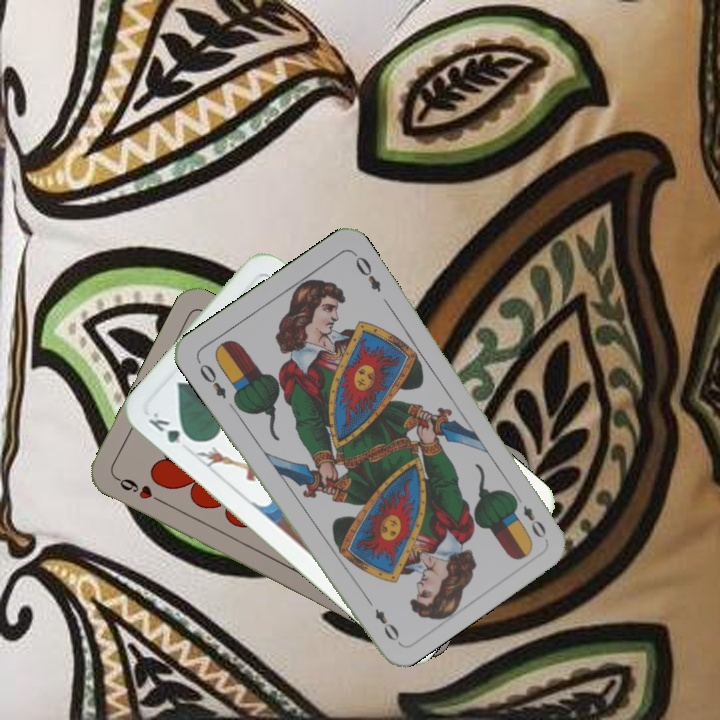EO: (509, 490, 549, 541), (193, 356, 229, 402)
GK: (144, 408, 198, 447)
H9: (111, 473, 166, 506)
